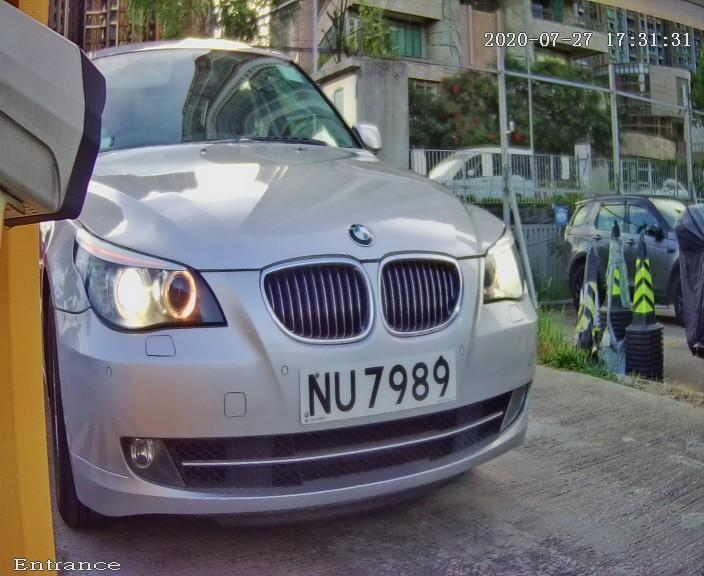privatecar: (29, 19, 617, 538)
